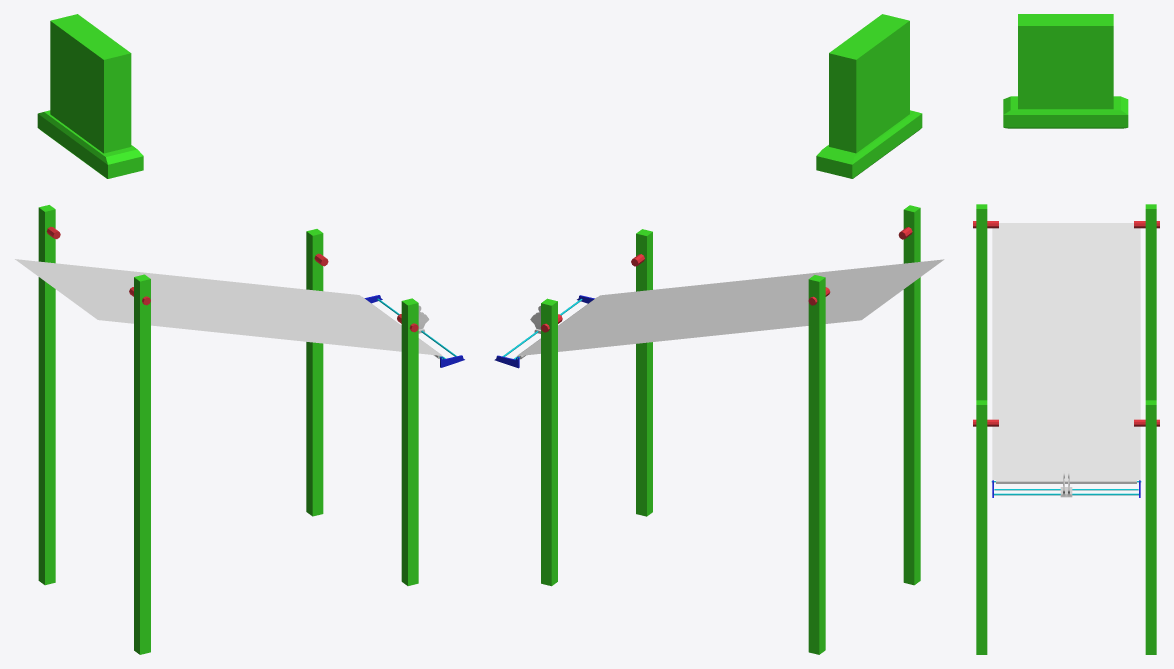
File: sceneProps.fbx
3 renders of one model, left to right at view 1: azimuth 30°, elevation 25°; view 2: azimuth 150°, elevation 25°; view 3: azimuth 270°, elevation 25°, orthographic. The views are drawn at different scales.
Visible parts, largest first — view 1: Cube.001, Cylinder.004; view 2: Cube.001, Cylinder.004; view 3: Cylinder.004, Cube.001.
Boxes of the visible parts, left/top/right/bottom form: Cube.001: left=37, top=14, right=464, bottom=654; Cylinder.004: left=15, top=259, right=442, bottom=358; Cube.001: left=494, top=14, right=922, bottom=654; Cylinder.004: left=517, top=259, right=944, bottom=359; Cylinder.004: left=992, top=223, right=1140, bottom=483; Cube.001: left=973, top=14, right=1159, bottom=654.
Size of the model in its own units: 2548 by 3806 by 1245.
